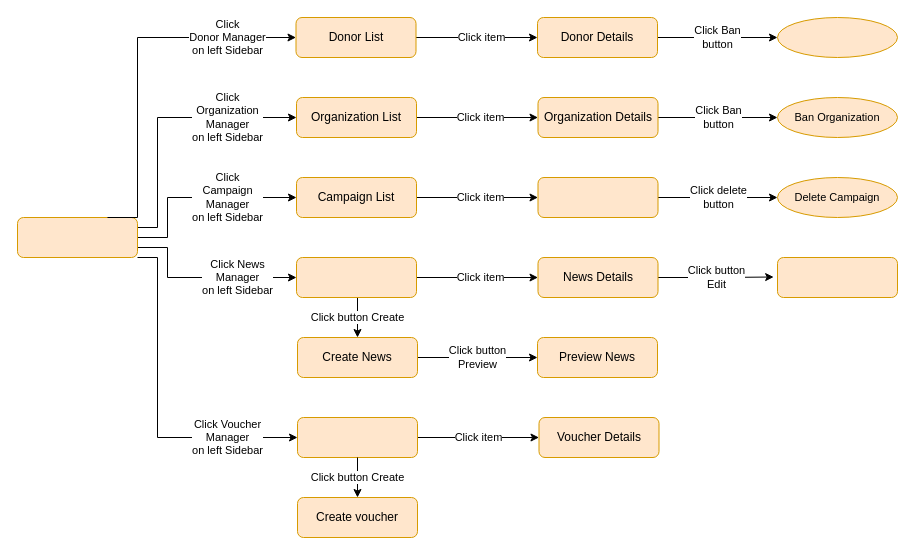
Some shapes in this 915 by 555 pixel diagram are drawn without their labels. The shapes that lost their labels are listed below. From the top down, each one's box as (x1, y1, x2, y2) in pixels, then its label:
(776, 16, 898, 58): Ban Donor
(537, 176, 658, 218): Campaign Details
(16, 216, 138, 258): Admin Dashboard
(296, 256, 416, 298): News List
(776, 256, 898, 298): Edit News
(296, 416, 418, 458): Voucher list
